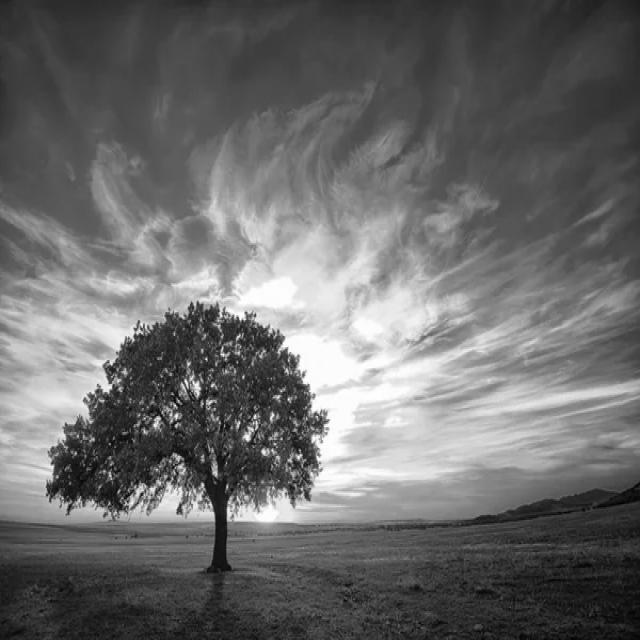Tree: (46, 302, 327, 574)
